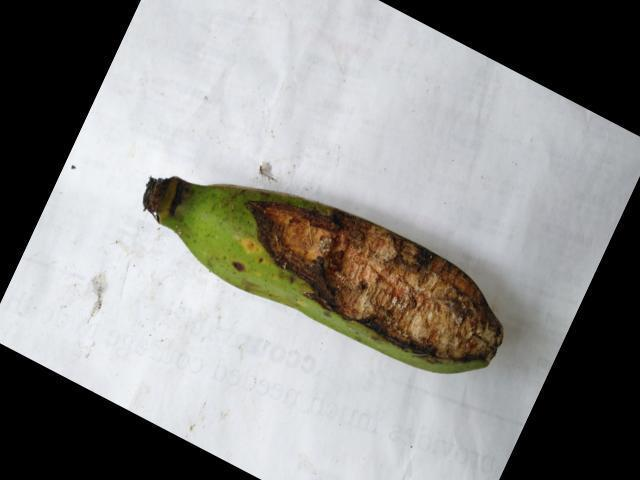rotten: (230, 191, 505, 375)
